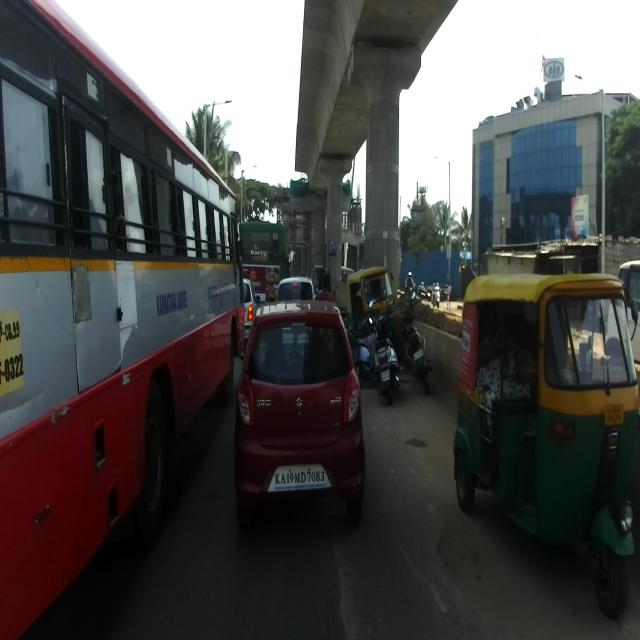Car_Maruti-Suzuki: (236, 297, 366, 534)
autorickshaw: (452, 272, 640, 619)
bus: (0, 0, 244, 639)
scooter: (369, 307, 404, 405)
